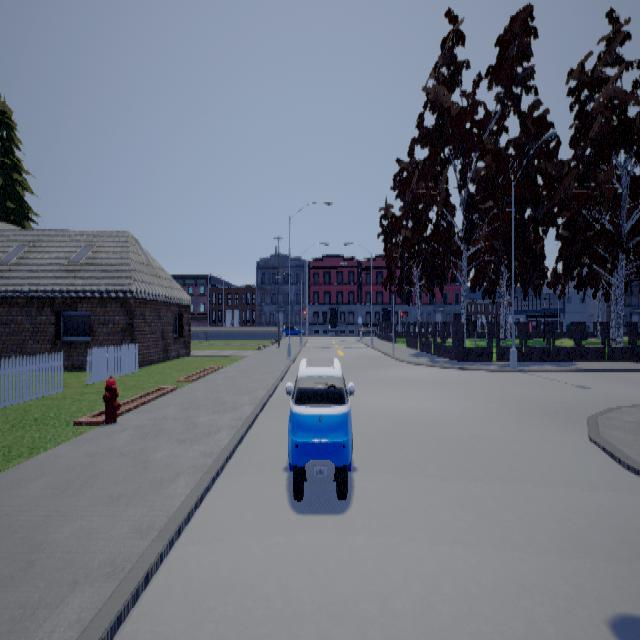red_light: (305, 308, 307, 318)
vehicle: (287, 356, 356, 500)
